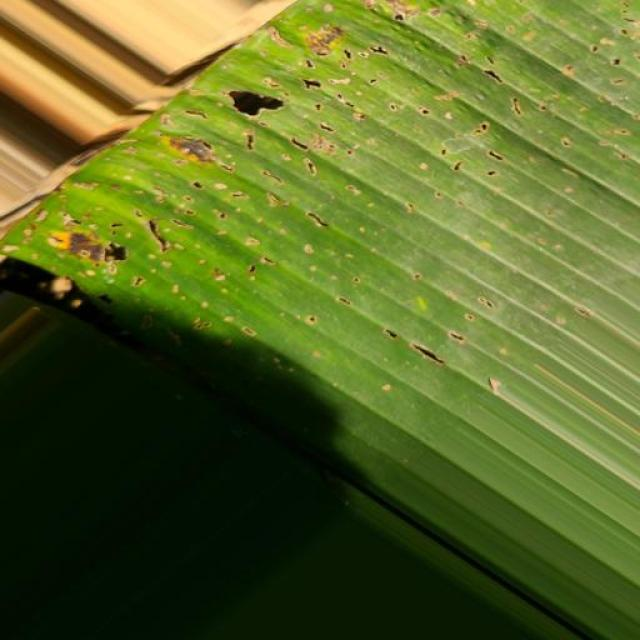Black_rot: (0, 0, 640, 351)
